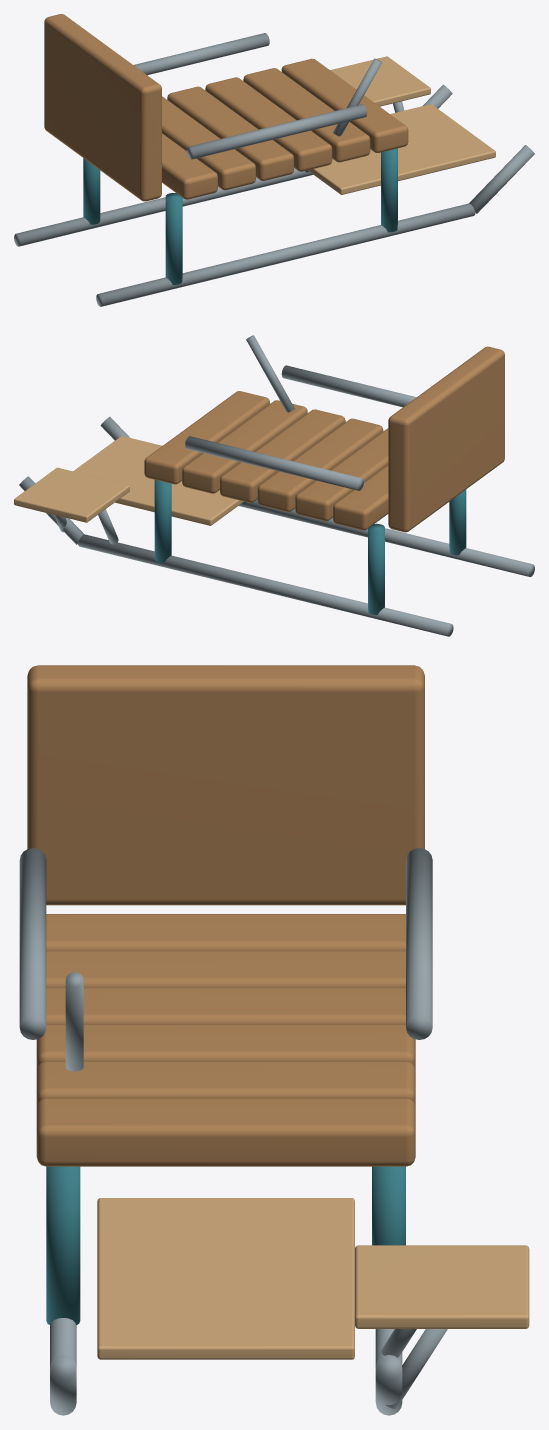
Rendered from sled.glb.
3 views of the same model, one above another, from view 1: azimuth 30°, elevation 25°; view 2: azimuth 150°, elevation 25°; view 3: azimuth 270°, elevation 25° (orthographic). The views are drawn at different scales.
Parts seen in each view (by area): view 1: rear backrest, measured boot support, tempered runner.001, flexed seat plank.005, flexed seat plank.003, flexed seat plank.002, flexed seat plank.004, flexed seat plank.001, tempered runner, hand grip.001, side boarding step, flexed seat plank (+6 smaller); view 2: rear backrest, measured boot support, tempered runner, flexed seat plank.005, side boarding step, flexed seat plank.002, flexed seat plank.003, flexed seat plank.004, flexed seat plank.001, tempered runner.001, hand grip, flexed seat plank (+6 smaller); view 3: rear backrest, measured boot support, flexed seat plank.005, side boarding step, flexed seat plank.004, flexed seat plank.003, flexed seat plank, flexed seat plank.001, flexed seat plank.002, runner stanchion.003, hand grip.001, hand grip (+6 smaller).
Part boxes in pixels (bbox=[...]): rear backrest: bbox=[44, 14, 161, 201]; measured boot support: bbox=[308, 104, 495, 194]; tempered runner.001: bbox=[96, 203, 475, 306]; flexed seat plank.005: bbox=[281, 58, 408, 152]; flexed seat plank.003: bbox=[205, 77, 332, 171]; flexed seat plank.002: bbox=[167, 86, 293, 180]; flexed seat plank.004: bbox=[243, 68, 370, 162]; flexed seat plank.001: bbox=[162, 96, 255, 190]; tempered runner: bbox=[14, 168, 312, 246]; hand grip.001: bbox=[186, 104, 367, 159]; side boarding step: bbox=[330, 56, 430, 106]; flexed seat plank: bbox=[162, 133, 217, 199]; rear backrest: bbox=[388, 346, 504, 532]; measured boot support: bbox=[73, 436, 243, 525]; tempered runner: bbox=[78, 534, 453, 636]; flexed seat plank.005: bbox=[144, 391, 269, 484]; side boarding step: bbox=[14, 467, 129, 522]; flexed seat plank.002: bbox=[257, 418, 383, 511]; flexed seat plank.003: bbox=[220, 409, 345, 502]; flexed seat plank.004: bbox=[182, 400, 307, 493]; flexed seat plank.001: bbox=[295, 428, 388, 521]; tempered runner.001: bbox=[238, 499, 534, 576]; hand grip: bbox=[185, 436, 363, 490]; flexed seat plank: bbox=[333, 465, 388, 530]; rear backrest: bbox=[27, 665, 424, 905]; measured boot support: bbox=[97, 1198, 354, 1359]; flexed seat plank.005: bbox=[36, 1098, 415, 1166]; side boarding step: bbox=[355, 1245, 529, 1328]; flexed seat plank.004: bbox=[36, 1061, 415, 1107]; flexed seat plank.003: bbox=[36, 1024, 415, 1070]; flexed seat plank: bbox=[46, 914, 405, 950]; flexed seat plank.001: bbox=[46, 951, 405, 987]; flexed seat plank.002: bbox=[46, 987, 405, 1024]; runner stanchion.003: bbox=[46, 1166, 80, 1325]; hand grip.001: bbox=[19, 848, 46, 1039]; hand grip: bbox=[406, 848, 432, 1039].
Size of the model in its own units: 2.62 by 1.24 by 1.34.
